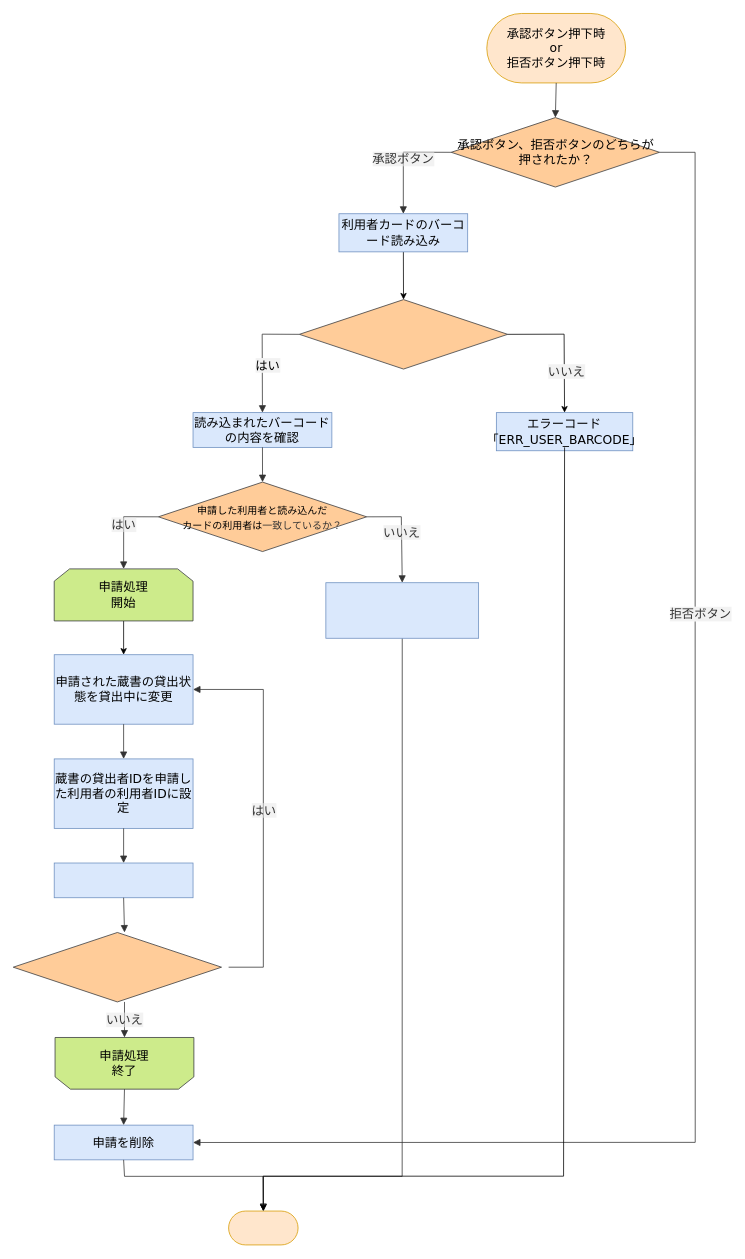
This 745x1259 diagram has some shape labels left out. The box of each missing label's shape, as (x1, y1, x2, y2) in pixels:
ほかに申請された 蔵書があるか？: (12, 932, 222, 1002)
エラーコード「ERR_DIFFERENT_USER」: (325, 582, 479, 638)
利用者カードのバーコードが 読み込まれたか？: (299, 299, 508, 369)
終了: (228, 1210, 298, 1245)
貸出期限を設定: (53, 862, 193, 898)
